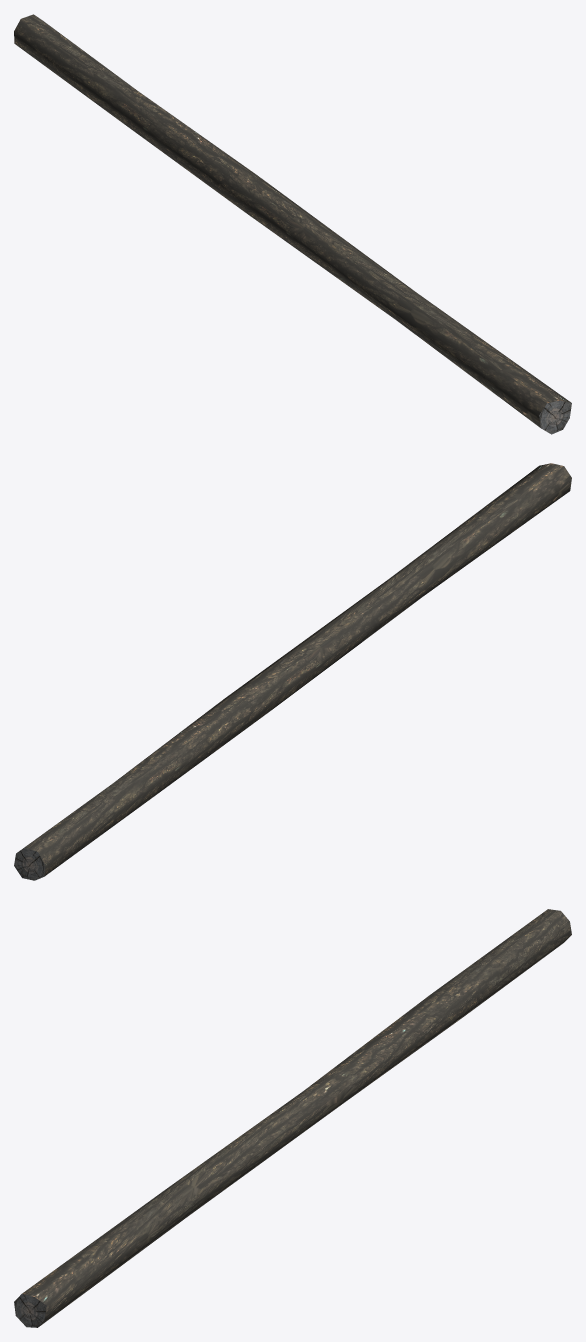
File: MSH_Tree_Log_02.fbx
The picture shows the model from 3 angles, top to bottom: view 1: azimuth 30°, elevation 25°; view 2: azimuth 150°, elevation 25°; view 3: azimuth 330°, elevation 25°; orthographic projection.
Visible parts, largest first — view 1: MSH_Tree_Log_02_LOD0; view 2: MSH_Tree_Log_02_LOD0; view 3: MSH_Tree_Log_02_LOD0.
Part boxes in pixels (left/top/right/bottom): MSH_Tree_Log_02_LOD0: left=14, top=14, right=571, bottom=434; MSH_Tree_Log_02_LOD0: left=14, top=463, right=571, bottom=880; MSH_Tree_Log_02_LOD0: left=14, top=909, right=571, bottom=1327.
Size of what is drawn, in the model's own units: 33.55 by 32.35 by 926.
